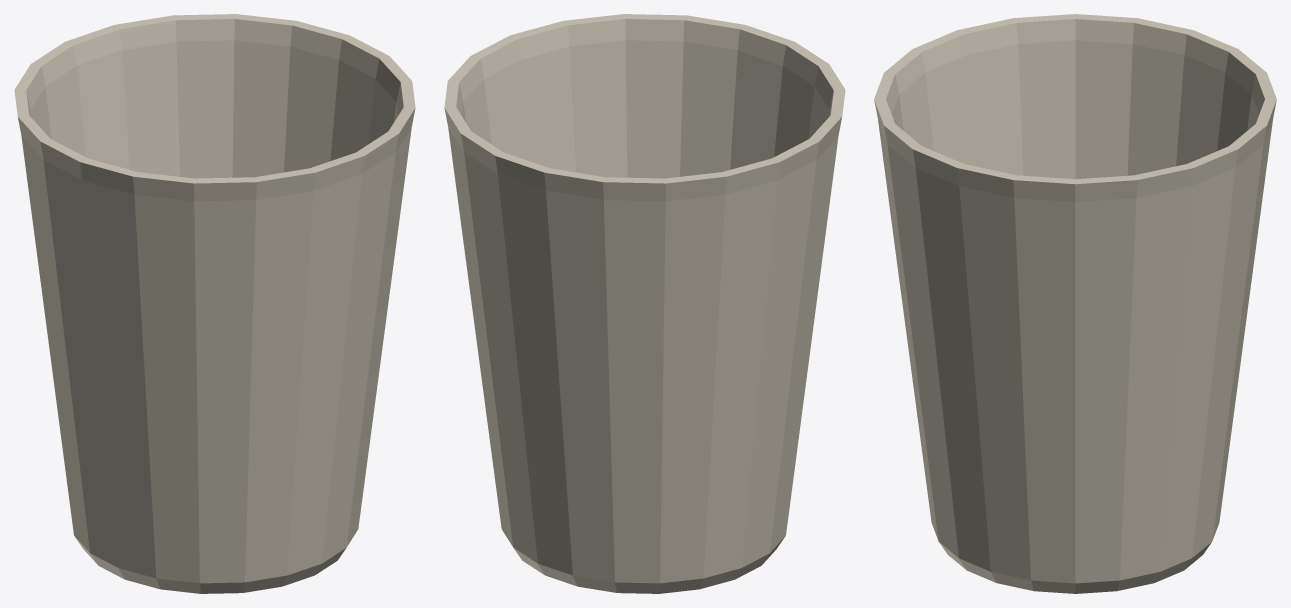
Rendered from cup.glb.
The picture shows the model from 3 angles, left to right: view 1: azimuth 30°, elevation 25°; view 2: azimuth 150°, elevation 25°; view 3: azimuth 270°, elevation 25°; orthographic projection.
Visible parts, largest first — view 1: cup; view 2: cup; view 3: cup.
Part boxes in pixels (x1=…): cup: x1=14, y1=14, x2=415, y2=593; cup: x1=444, y1=14, x2=845, y2=593; cup: x1=874, y1=14, x2=1276, y2=593.
Bounding box in the file's own units: 0.075 × 0.09 × 0.075.
